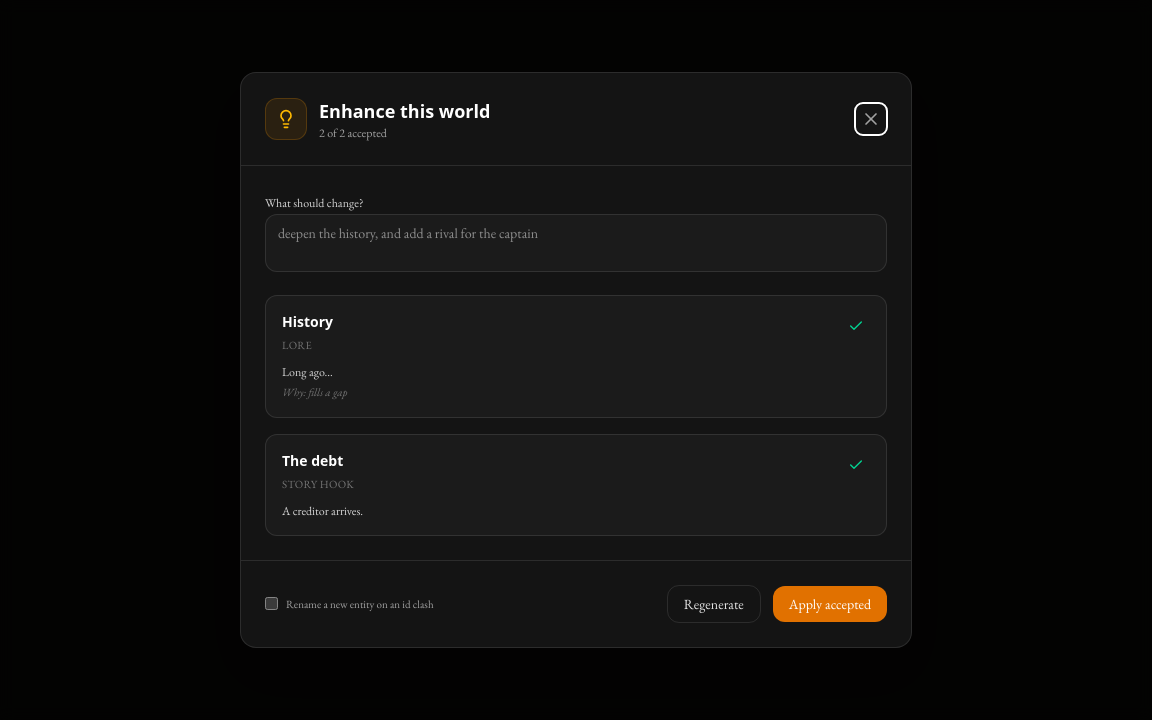
Test: WorldEnhanceDialog › disables apply when everything is rejected
The image size is (1152, 720).
What coordinates should you click on to do the following:
click the button named "reject lore history"
I would click on:
 (856, 326)
Its box is [842,312,870,340].
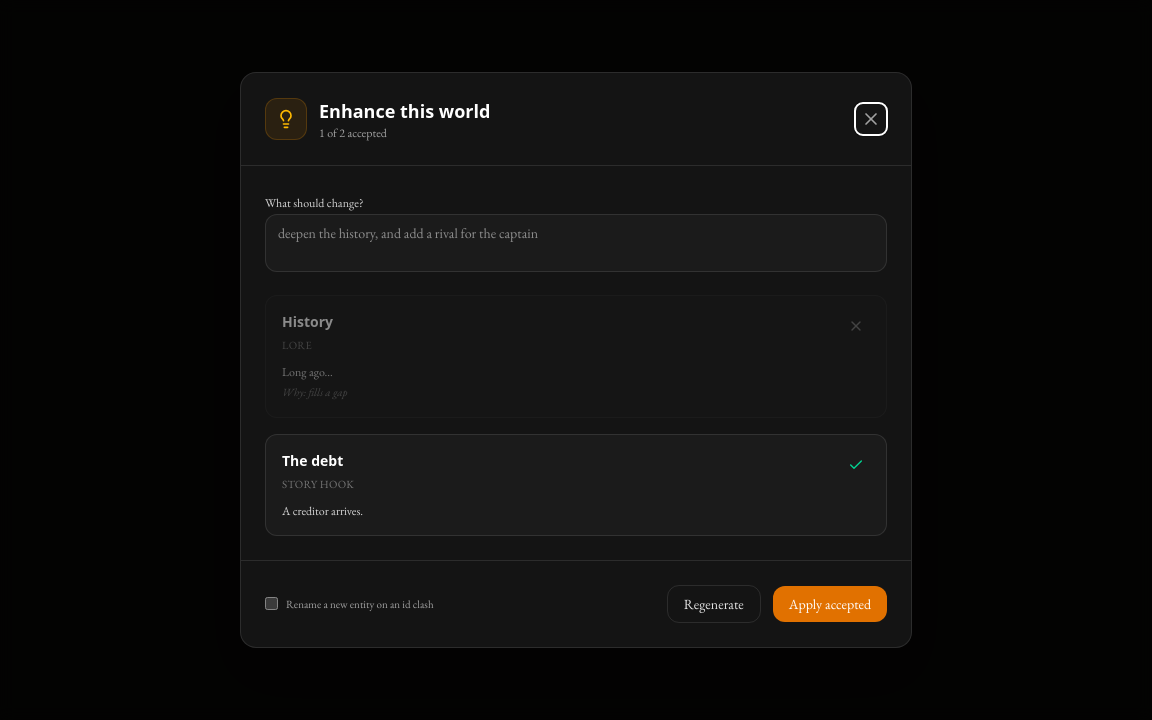
What coordinates should you click on to do the following:
click the button named "reject story hook the debt"
I would click on:
 (856, 465)
Its box is [842,451,870,479].
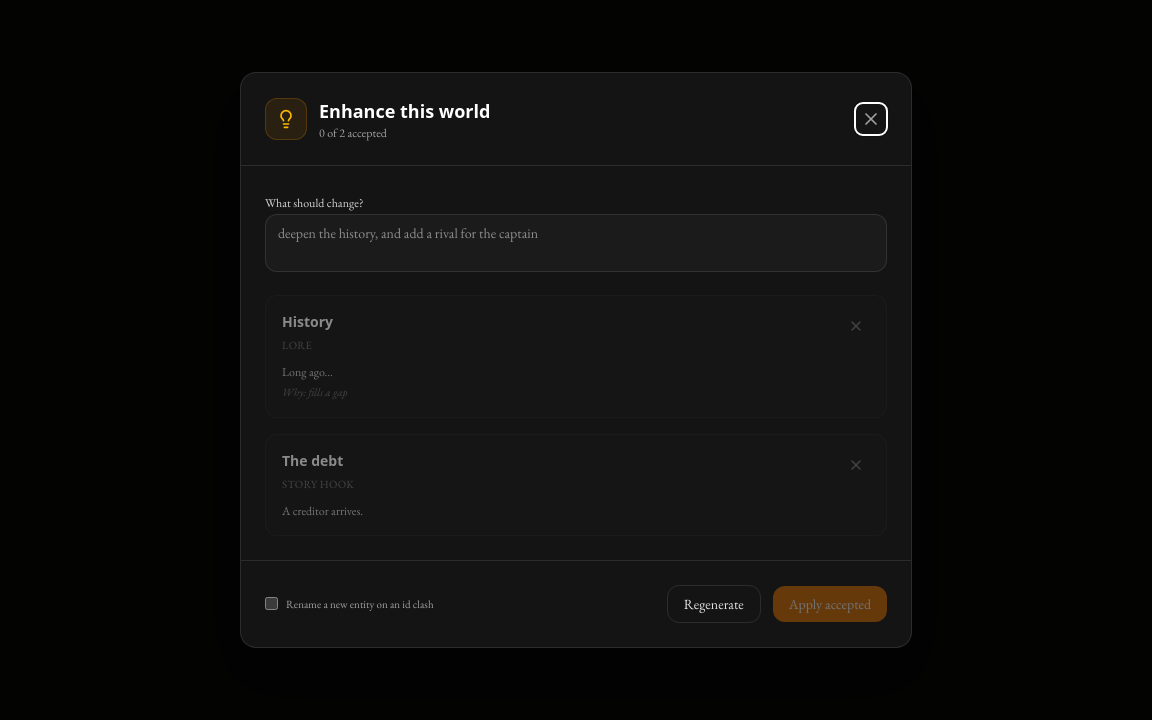
Expected: the button "Apply accepted" is disabled, [773,586,887,622]
